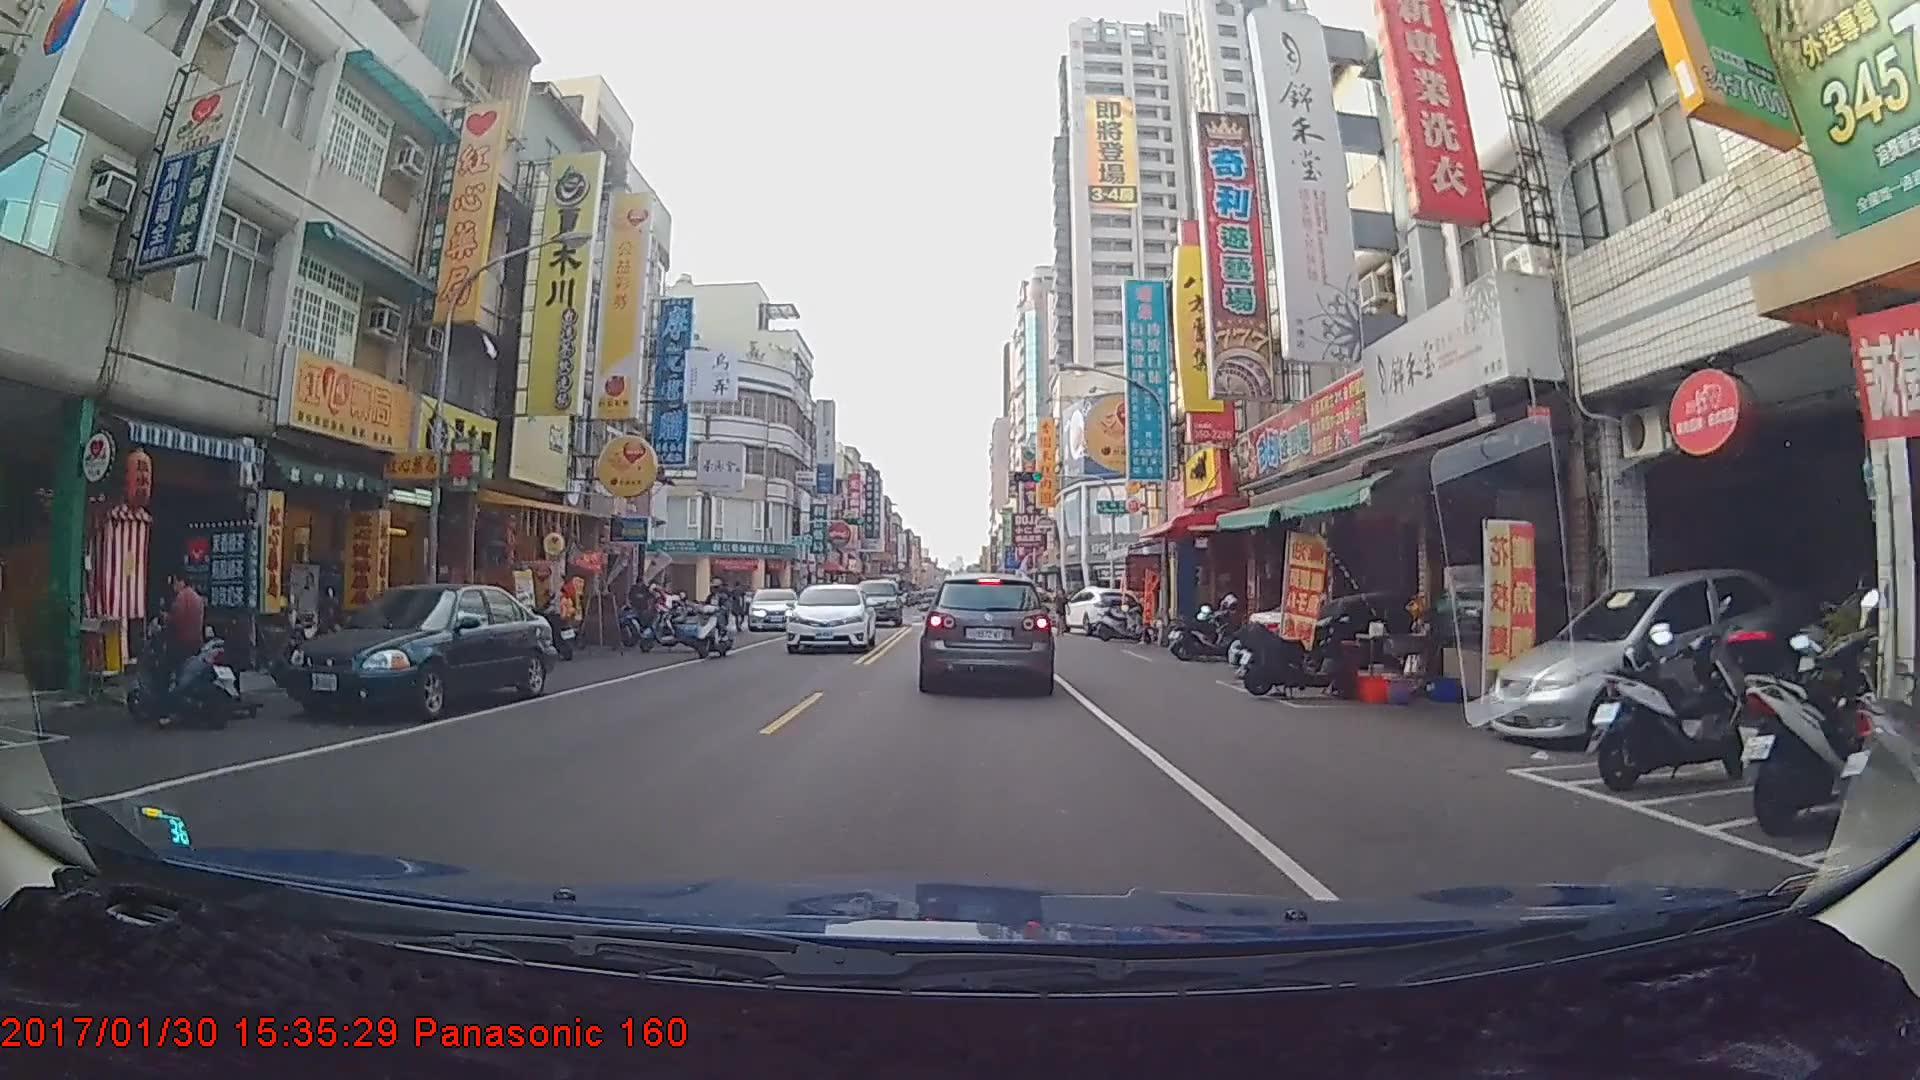pedestrian: (1051, 586, 1071, 636)
rider: (129, 561, 246, 733), (689, 580, 741, 663)
vehicle: (281, 581, 553, 718), (920, 570, 1053, 692), (783, 576, 873, 650), (1058, 583, 1147, 636), (850, 575, 902, 625), (748, 586, 798, 631)
